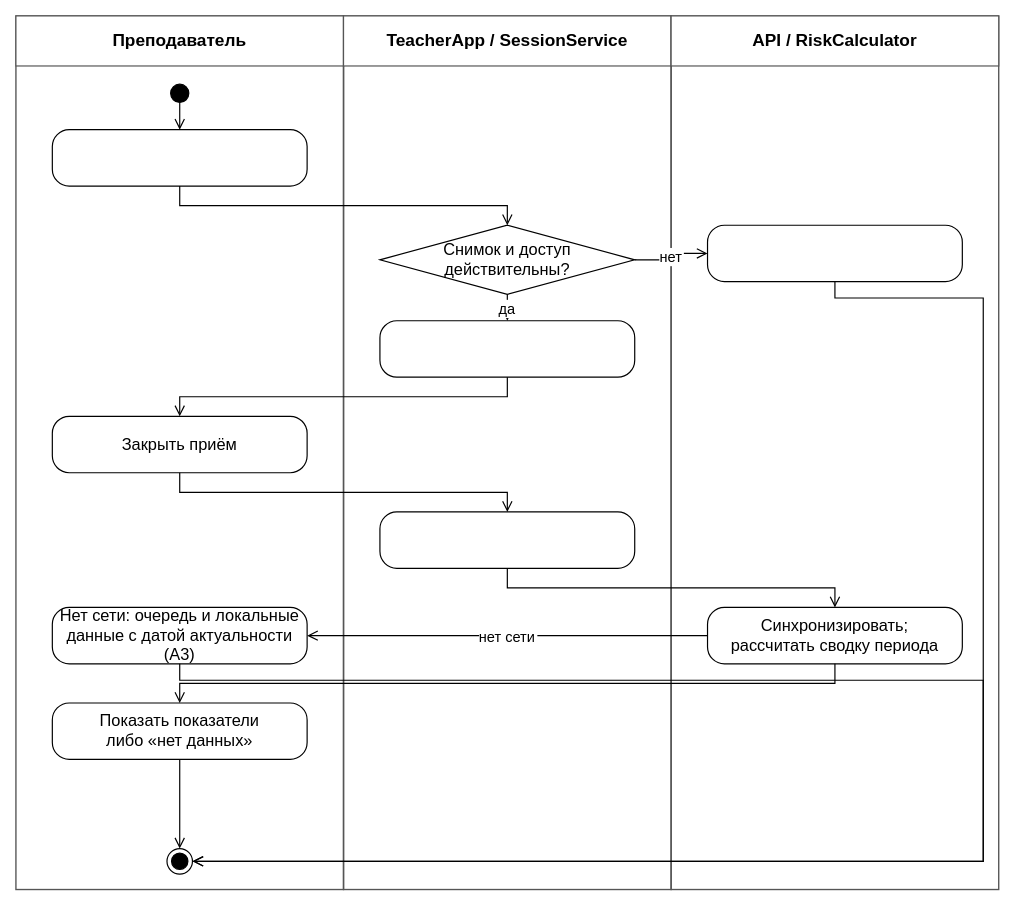
The diagram is 1016 pixels wide and 906 high, and some of its shapes have lost their labels. Here are the shapes that lost their labels. From the top down, the centre of each, then its label:
At (179,157): "Выбрать своё занятие".
At (835,253): "Запретить открытие; объяснить причину (А1)".
At (507,348): "Открыть приём; обновлять список отметок".
At (507,539): "Сформировать локальный список за ≤ 5 с".
